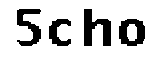5: (10, 6, 45, 52)
c: (47, 15, 74, 50)
h: (80, 5, 115, 52)
o: (117, 17, 150, 51)
